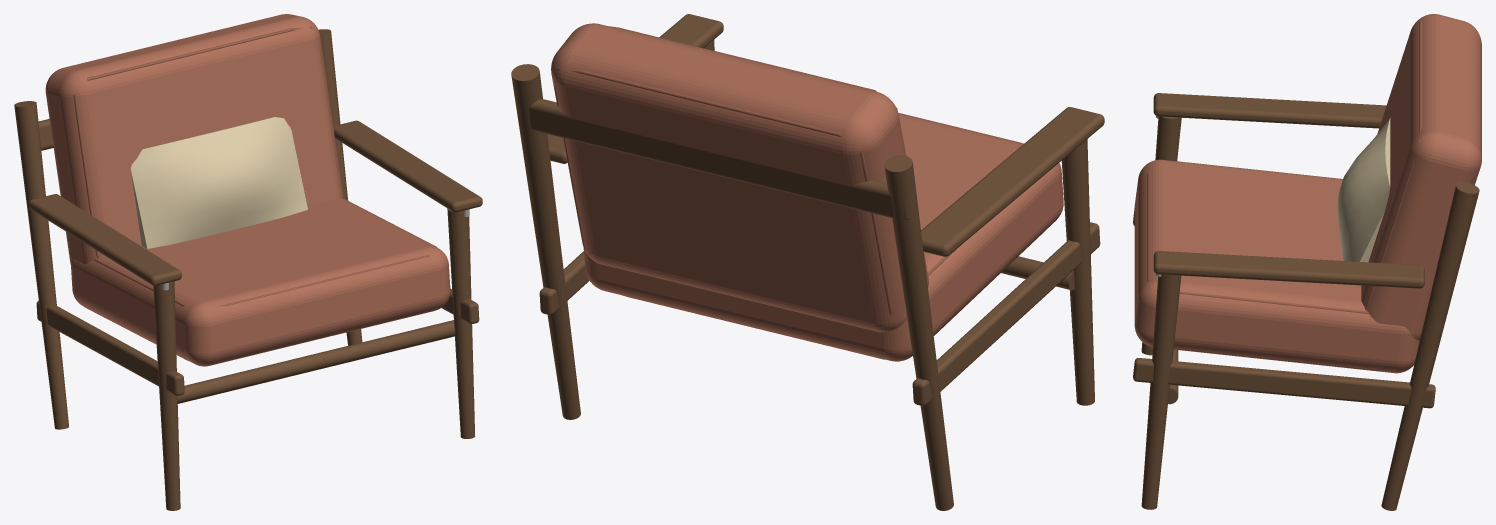
Rendered from atelier-timber-clay.glb.
The picture shows the model from 3 angles, left to right: view 1: azimuth 30°, elevation 25°; view 2: azimuth 150°, elevation 25°; view 3: azimuth 270°, elevation 25°; orthographic projection. The views are drawn at different scales.
Bounding box in the file's own units: 0.844 × 0.81 × 0.7149.
